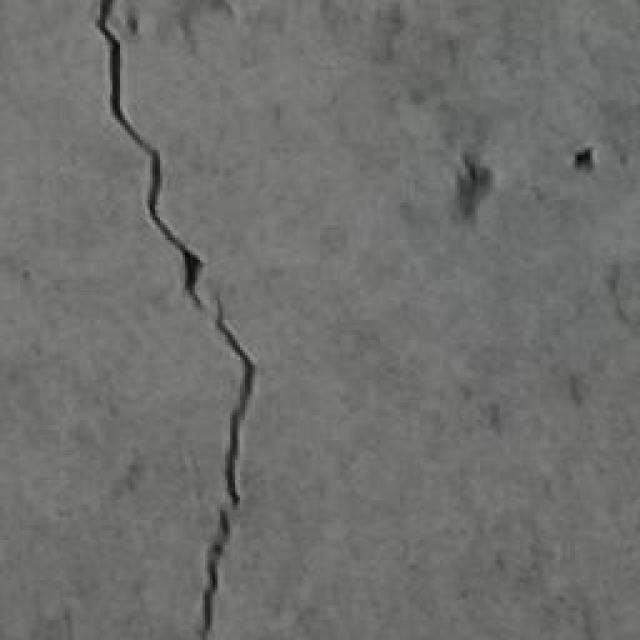Longitudinal: (75, 0, 277, 640)
